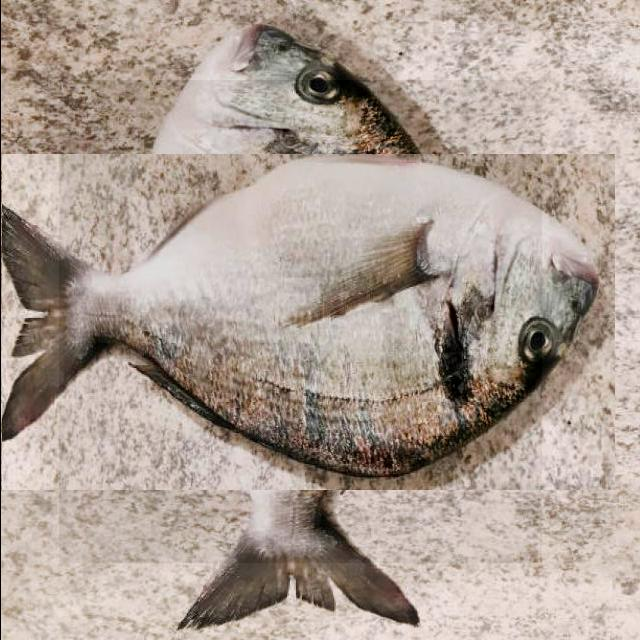Healthy Fish: (58, 80, 541, 563)
